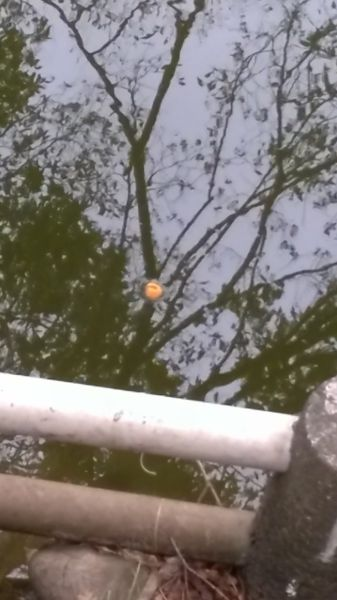eggs: (139, 277, 166, 299)
